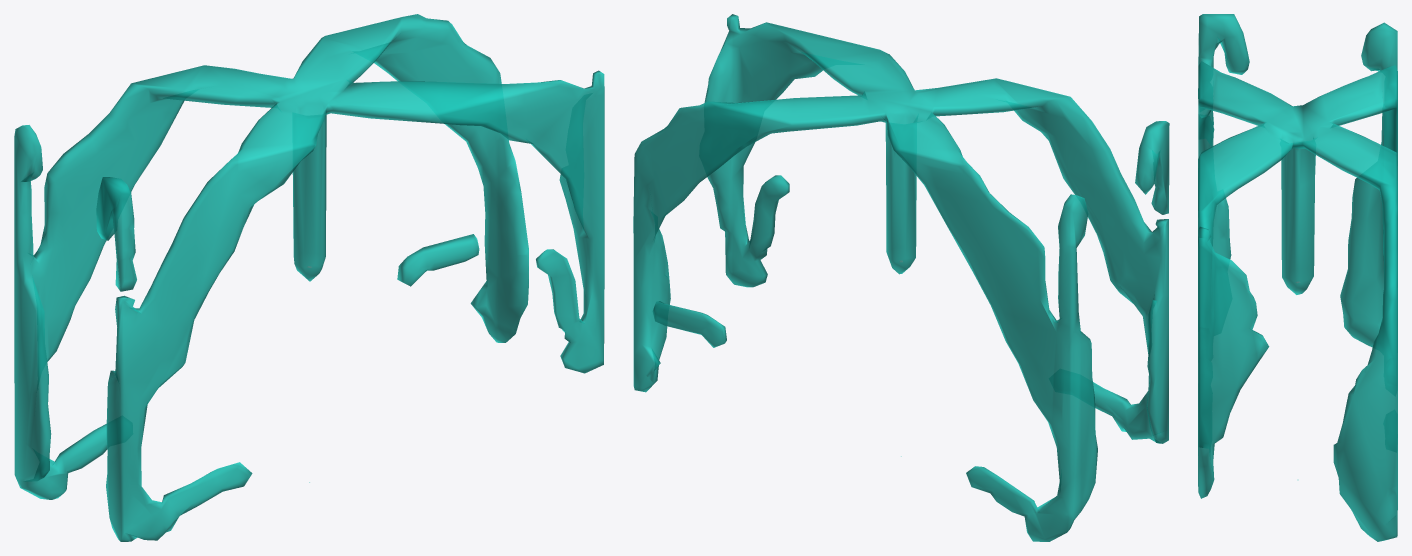
3 renders of one model, left to right at view 1: azimuth 30°, elevation 25°; view 2: azimuth 150°, elevation 25°; view 3: azimuth 270°, elevation 25°, orthographic. The views are drawn at different scales.
Parts seen in each view (by area): view 1: Liquid_Domain; view 2: Liquid_Domain; view 3: Liquid_Domain.
Boxes of the visible parts, x1,y1,x2,y2 form: Liquid_Domain: (14, 14, 604, 541); Liquid_Domain: (633, 14, 1169, 541); Liquid_Domain: (1198, 14, 1397, 541).
Size of the model in its own units: 885 by 694 by 344.
